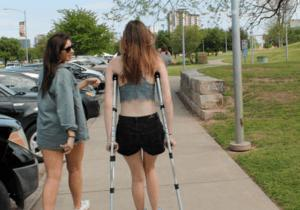crutches: (100, 16, 189, 210)
